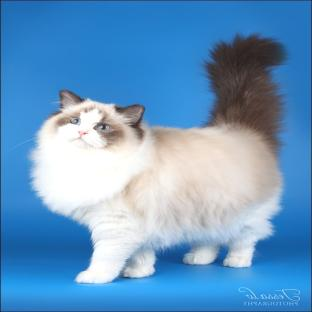Animal: (32, 35, 285, 283)
